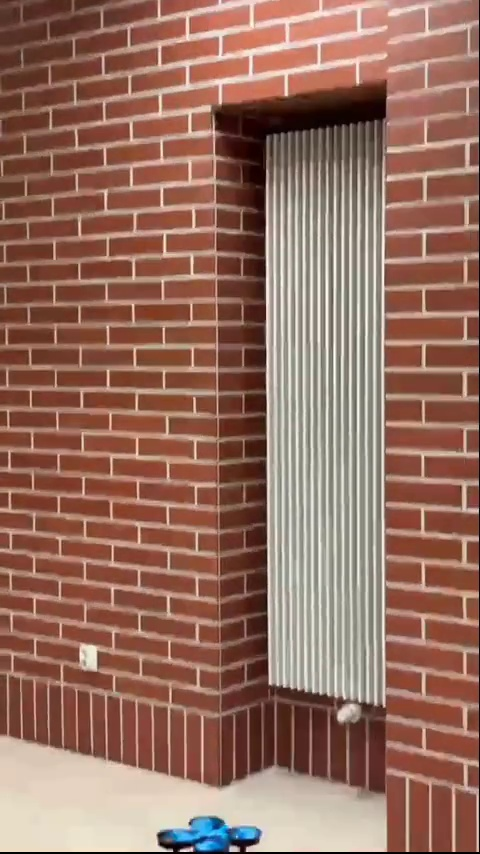drone: (154, 811, 263, 854)
